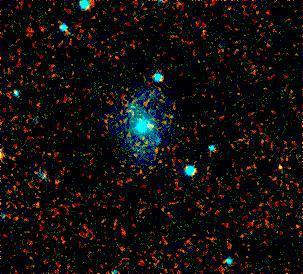star: (0, 144, 17, 174)
